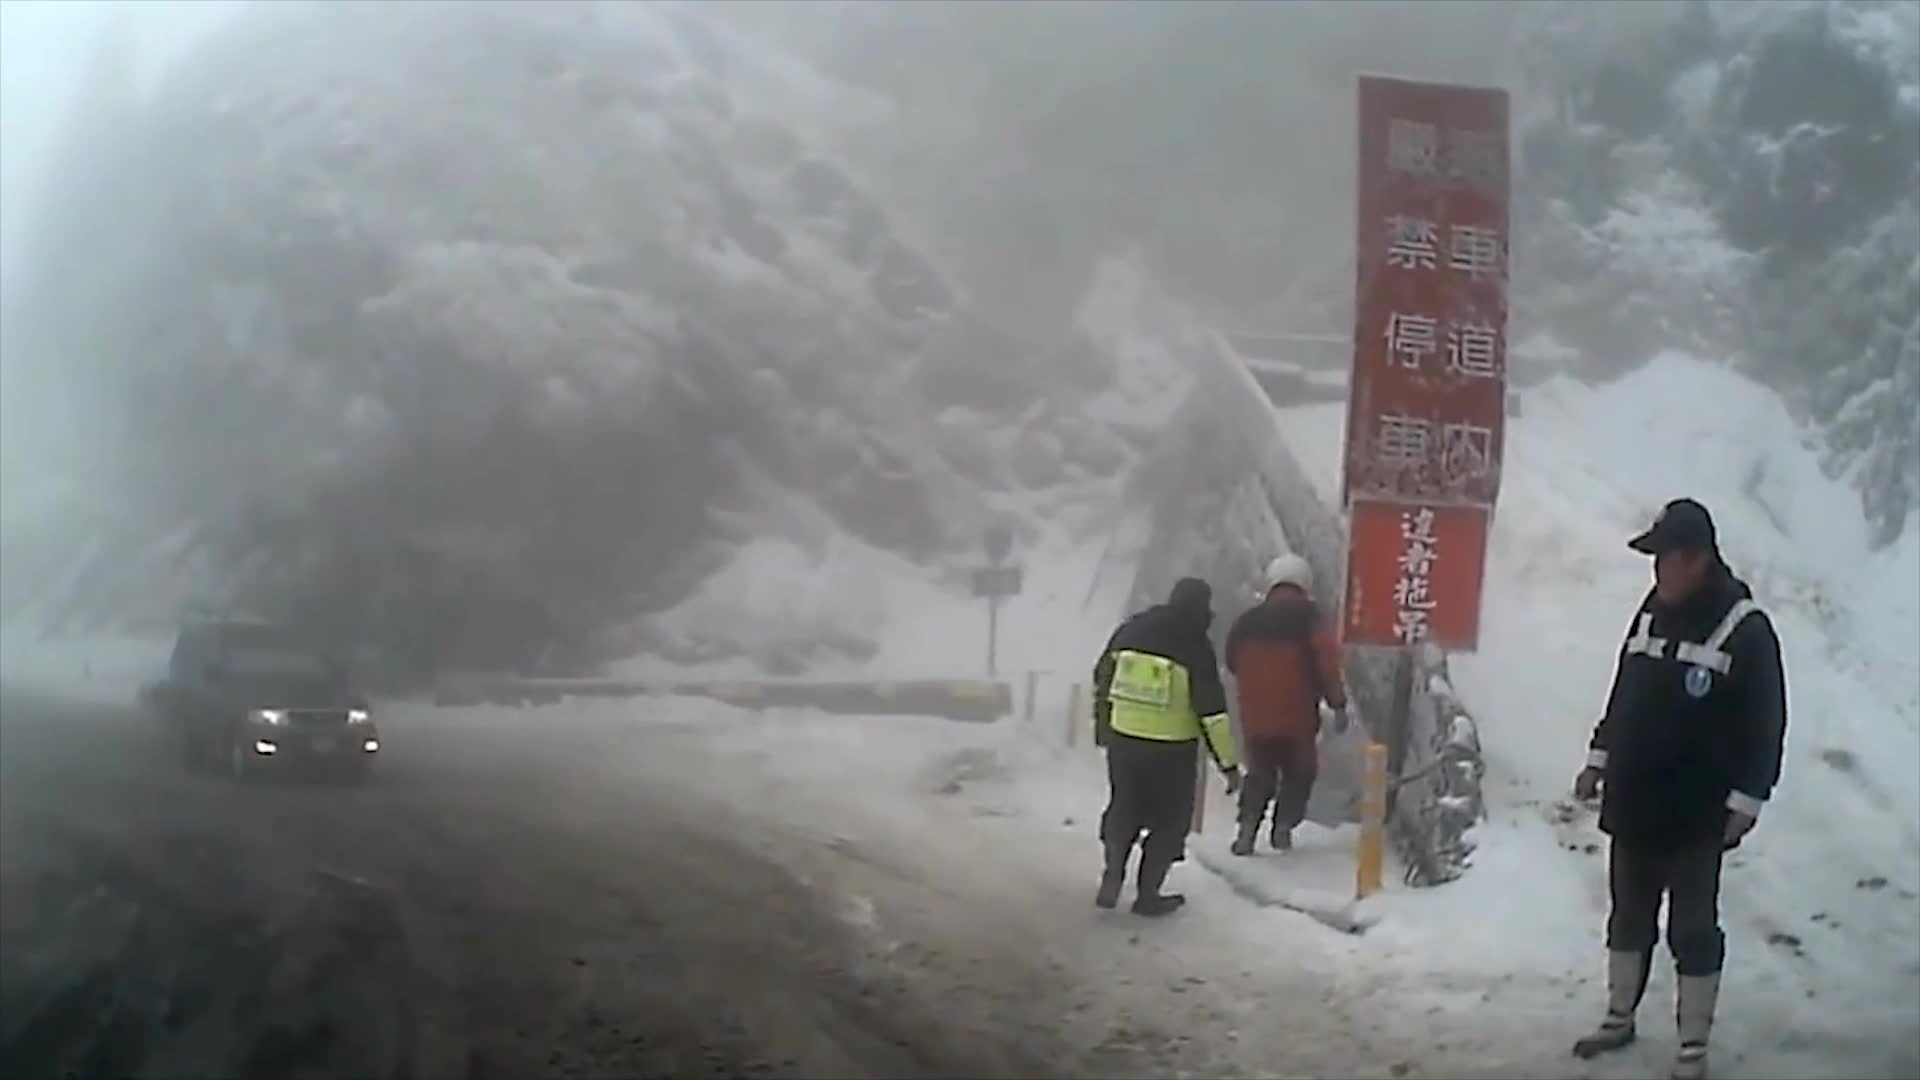pedestrian: (1572, 499, 1791, 1076), (1081, 582, 1235, 927), (1224, 550, 1348, 856)
vehicle: (168, 621, 382, 789)
